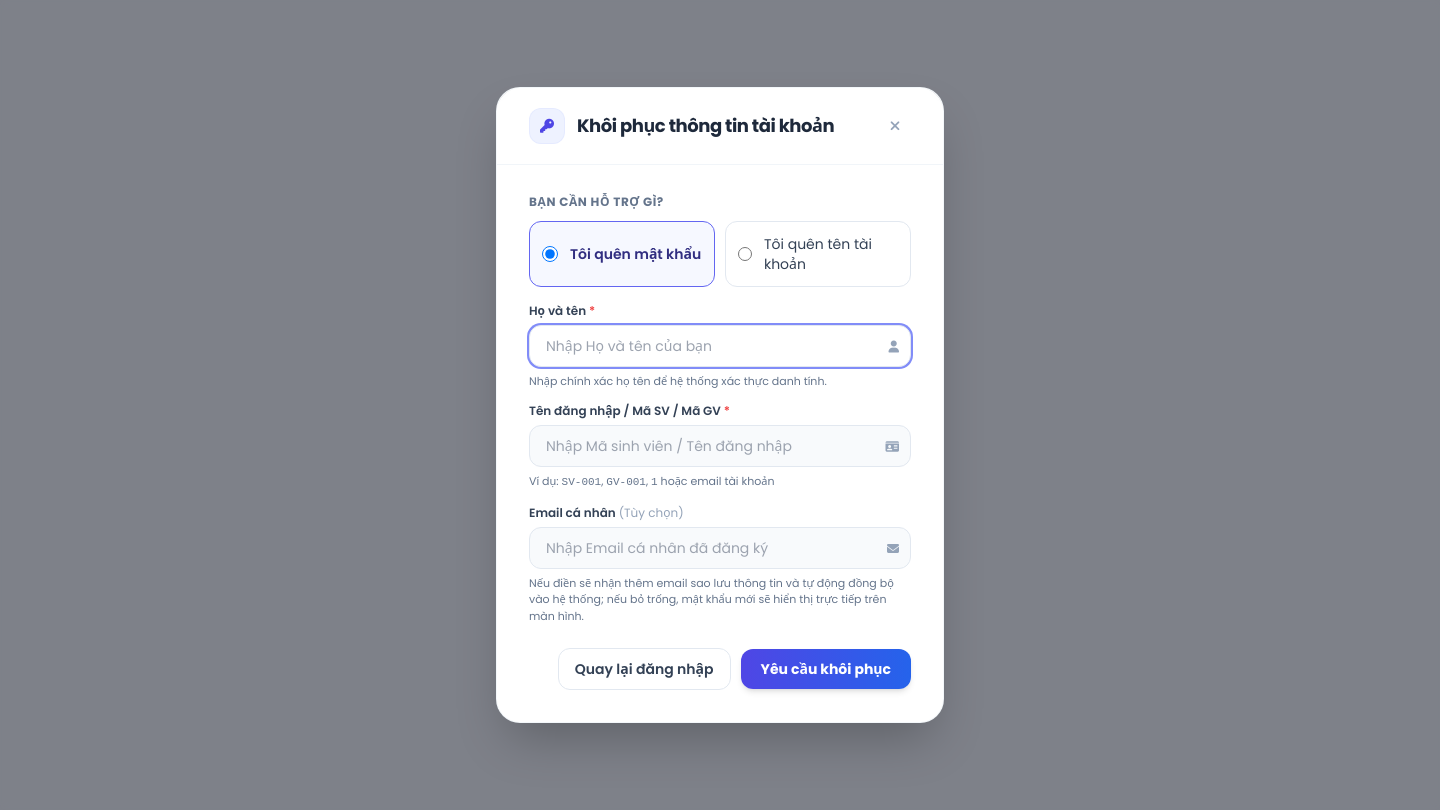
Test: ForgotPasswordModal › handles "Tôi quên mật khẩu" submission CÓ nhập Email: passes personal email and shows sync note
Type "Nguyễn Văn An" into the field with placeholder "Nhập Họ và tên của bạn" at (720, 346), box [529,325,911,367]
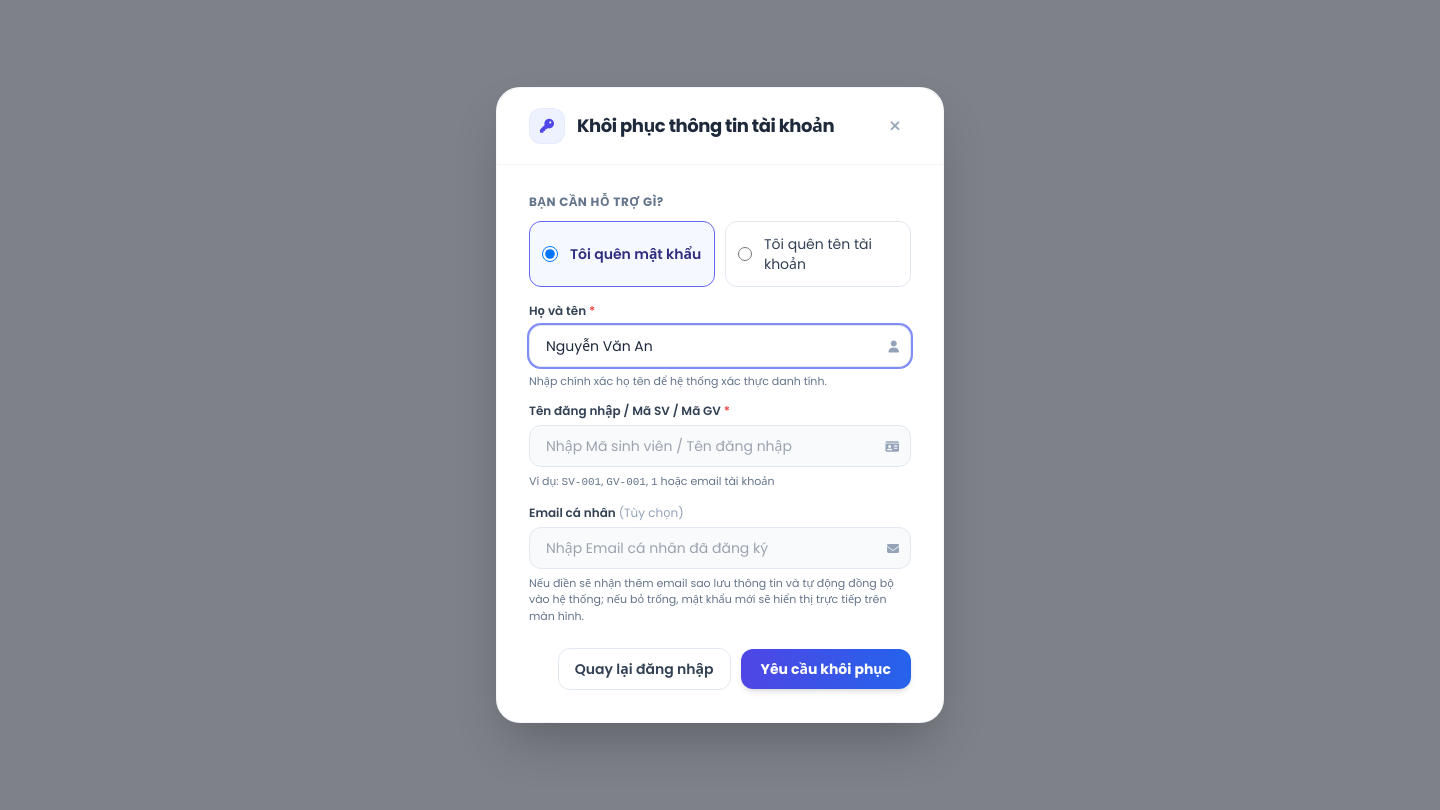
Type "SV-001" into the field with placeholder "Nhập Mã sinh viên / Tên đăng nhập" at (720, 446), box [529,425,911,467]
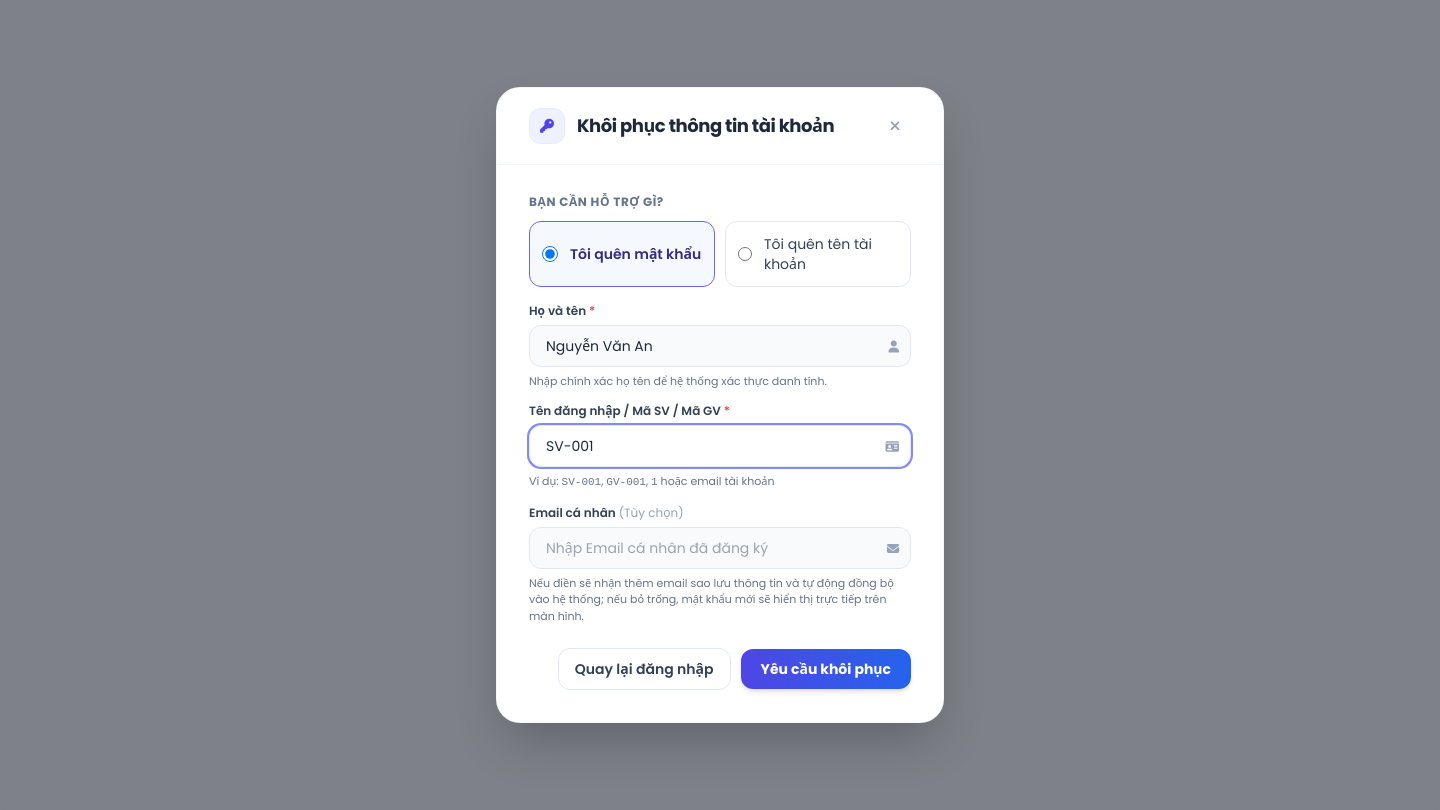
Type "personal@gmail.com" into the field with placeholder "Nhập Email cá nhân đã đăng ký" at (720, 548), box [529,527,911,569]
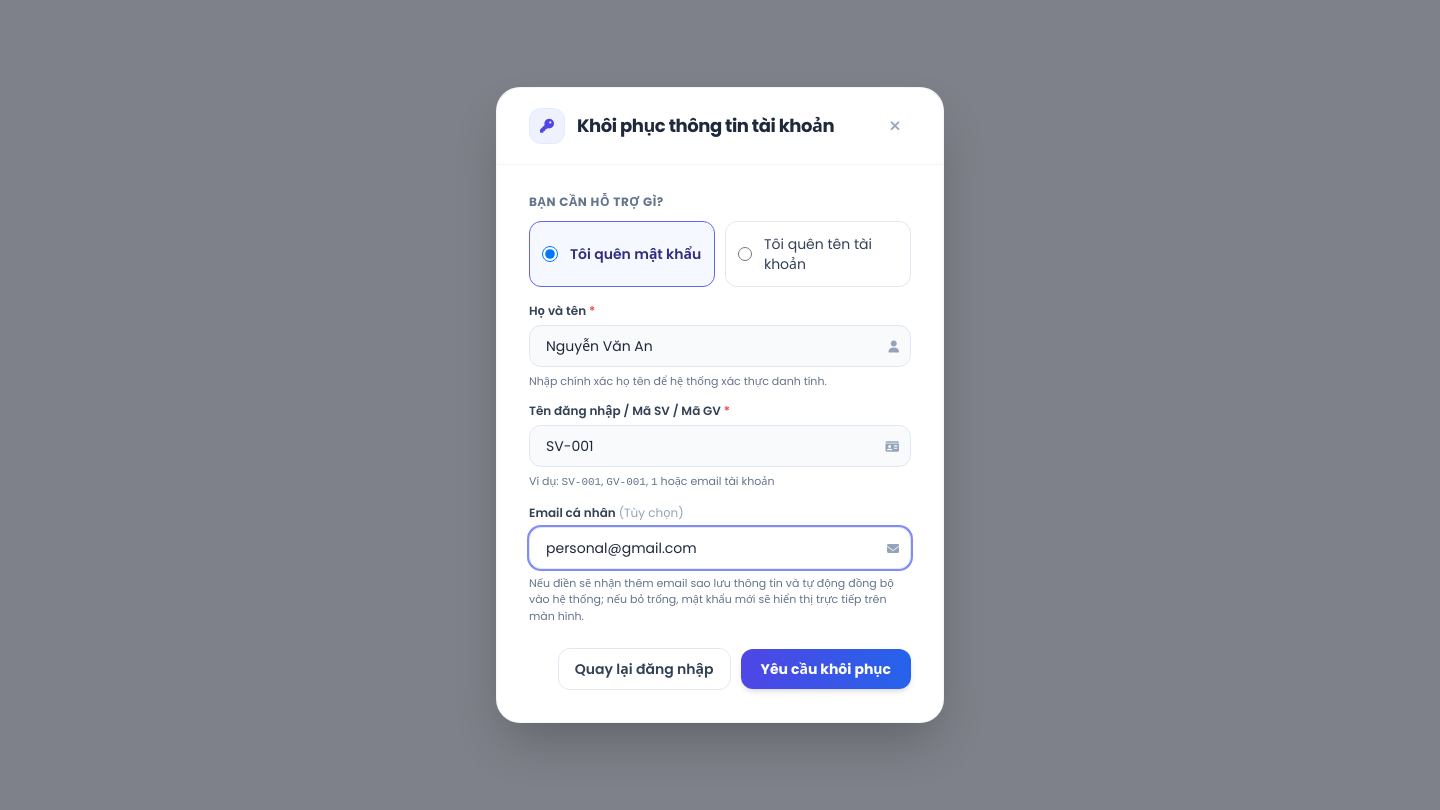
Click the button "Yêu cầu khôi phục" at (826, 669), box [740,649,911,689]
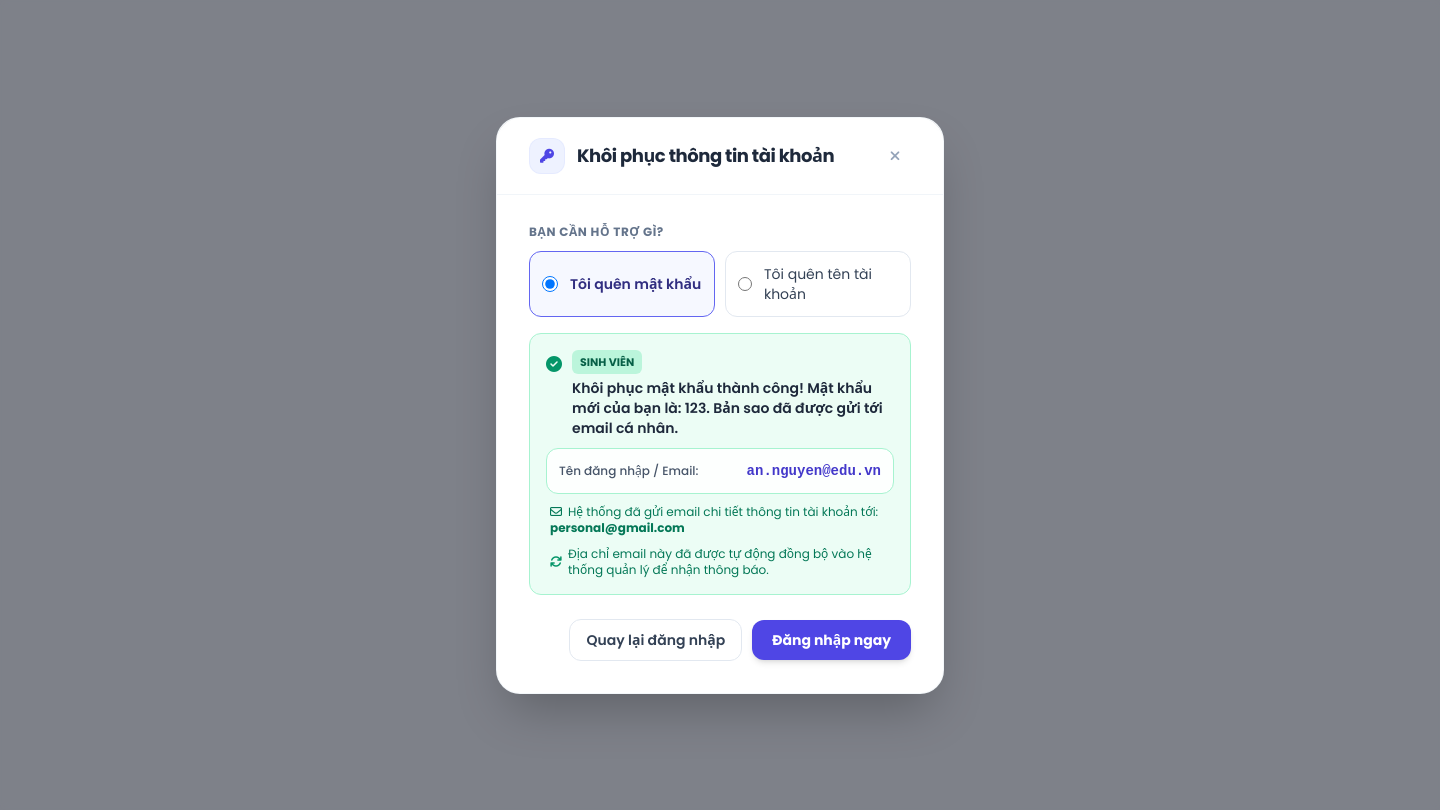
Result: the text "Khôi phục mật khẩu thành công! Mật khẩu mới của bạn là: 123" is shown at [572,378,883,438]
Result: the text "Hệ thống đã gửi email chi tiết thông tin tài khoản tới:" is shown at [568,502,878,520]
Result: the text "Địa chỉ email này đã được tự động đồng bộ vào hệ thống quản lý" is shown at [568,544,872,578]
